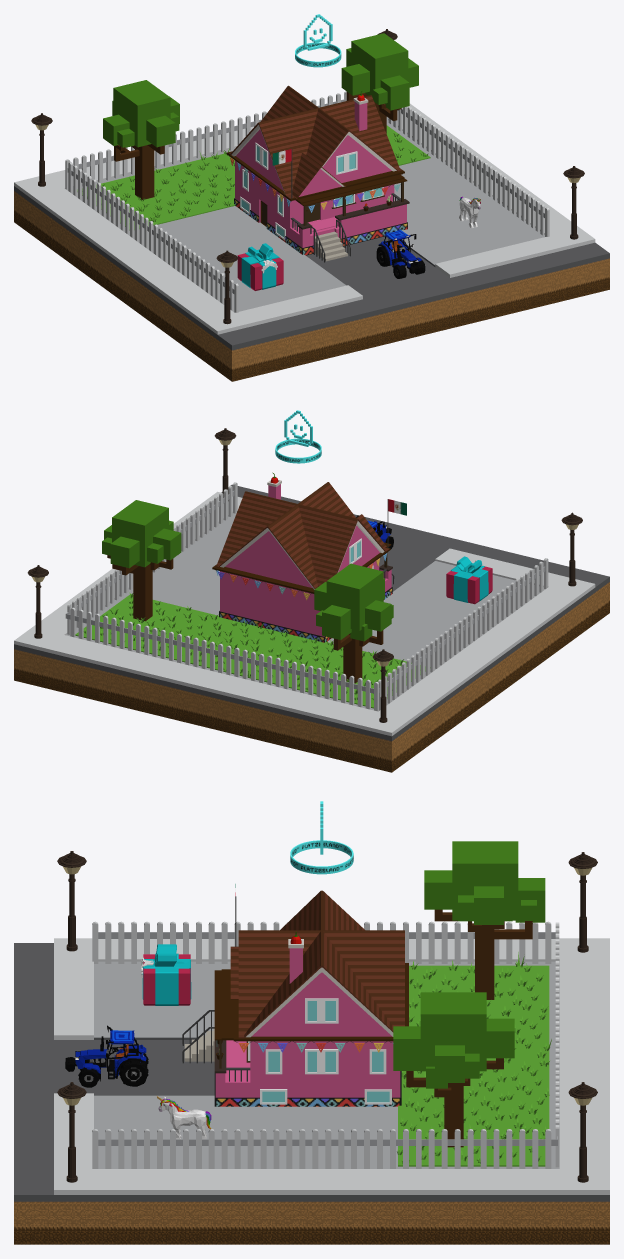
The picture shows the model from 3 angles, top to bottom: view 1: azimuth 30°, elevation 25°; view 2: azimuth 150°, elevation 25°; view 3: azimuth 270°, elevation 25°; orthographic projection. The views are drawn at different scales.
Parts seen in each view (by area): view 1: Cube.004, Cube.1005, OBJRANDOM_GIANT_PRESENT, VEHICLES_TRACTOR, TYPE_PREMIUM, ANIMAL_UNICORNIO; view 2: Cube.004, Cube.1005, OBJRANDOM_GIANT_PRESENT, TYPE_PREMIUM; view 3: Cube.004, Cube.1005, VEHICLES_TRACTOR, OBJRANDOM_GIANT_PRESENT, TYPE_PREMIUM, ANIMAL_UNICORNIO.
Boxes of the visible parts, left/top/right/bottom form: Cube.004: left=14, top=29, right=609, bottom=381; Cube.1005: left=226, top=85, right=409, bottom=262; OBJRANDOM_GIANT_PRESENT: left=237, top=243, right=283, bottom=290; VEHICLES_TRACTOR: left=376, top=229, right=425, bottom=278; TYPE_PREMIUM: left=295, top=14, right=341, bottom=67; ANIMAL_UNICORNIO: left=459, top=196, right=480, bottom=228; Cube.004: left=14, top=428, right=609, bottom=772; Cube.1005: left=212, top=472, right=406, bottom=642; OBJRANDOM_GIANT_PRESENT: left=446, top=556, right=492, bottom=604; TYPE_PREMIUM: left=275, top=410, right=321, bottom=463; Cube.004: left=14, top=841, right=609, bottom=1244; Cube.1005: left=182, top=884, right=408, bottom=1106; VEHICLES_TRACTOR: left=65, top=1025, right=148, bottom=1087; OBJRANDOM_GIANT_PRESENT: left=141, top=944, right=191, bottom=1005; TYPE_PREMIUM: left=290, top=801, right=353, bottom=874; ANIMAL_UNICORNIO: left=157, top=1096, right=211, bottom=1139.
Bounding box in the file's own units: 4000 × 2466 × 4000.
Materials: 76 (6 with a texture image).
